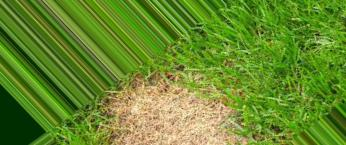patch: (99, 80, 248, 145)
